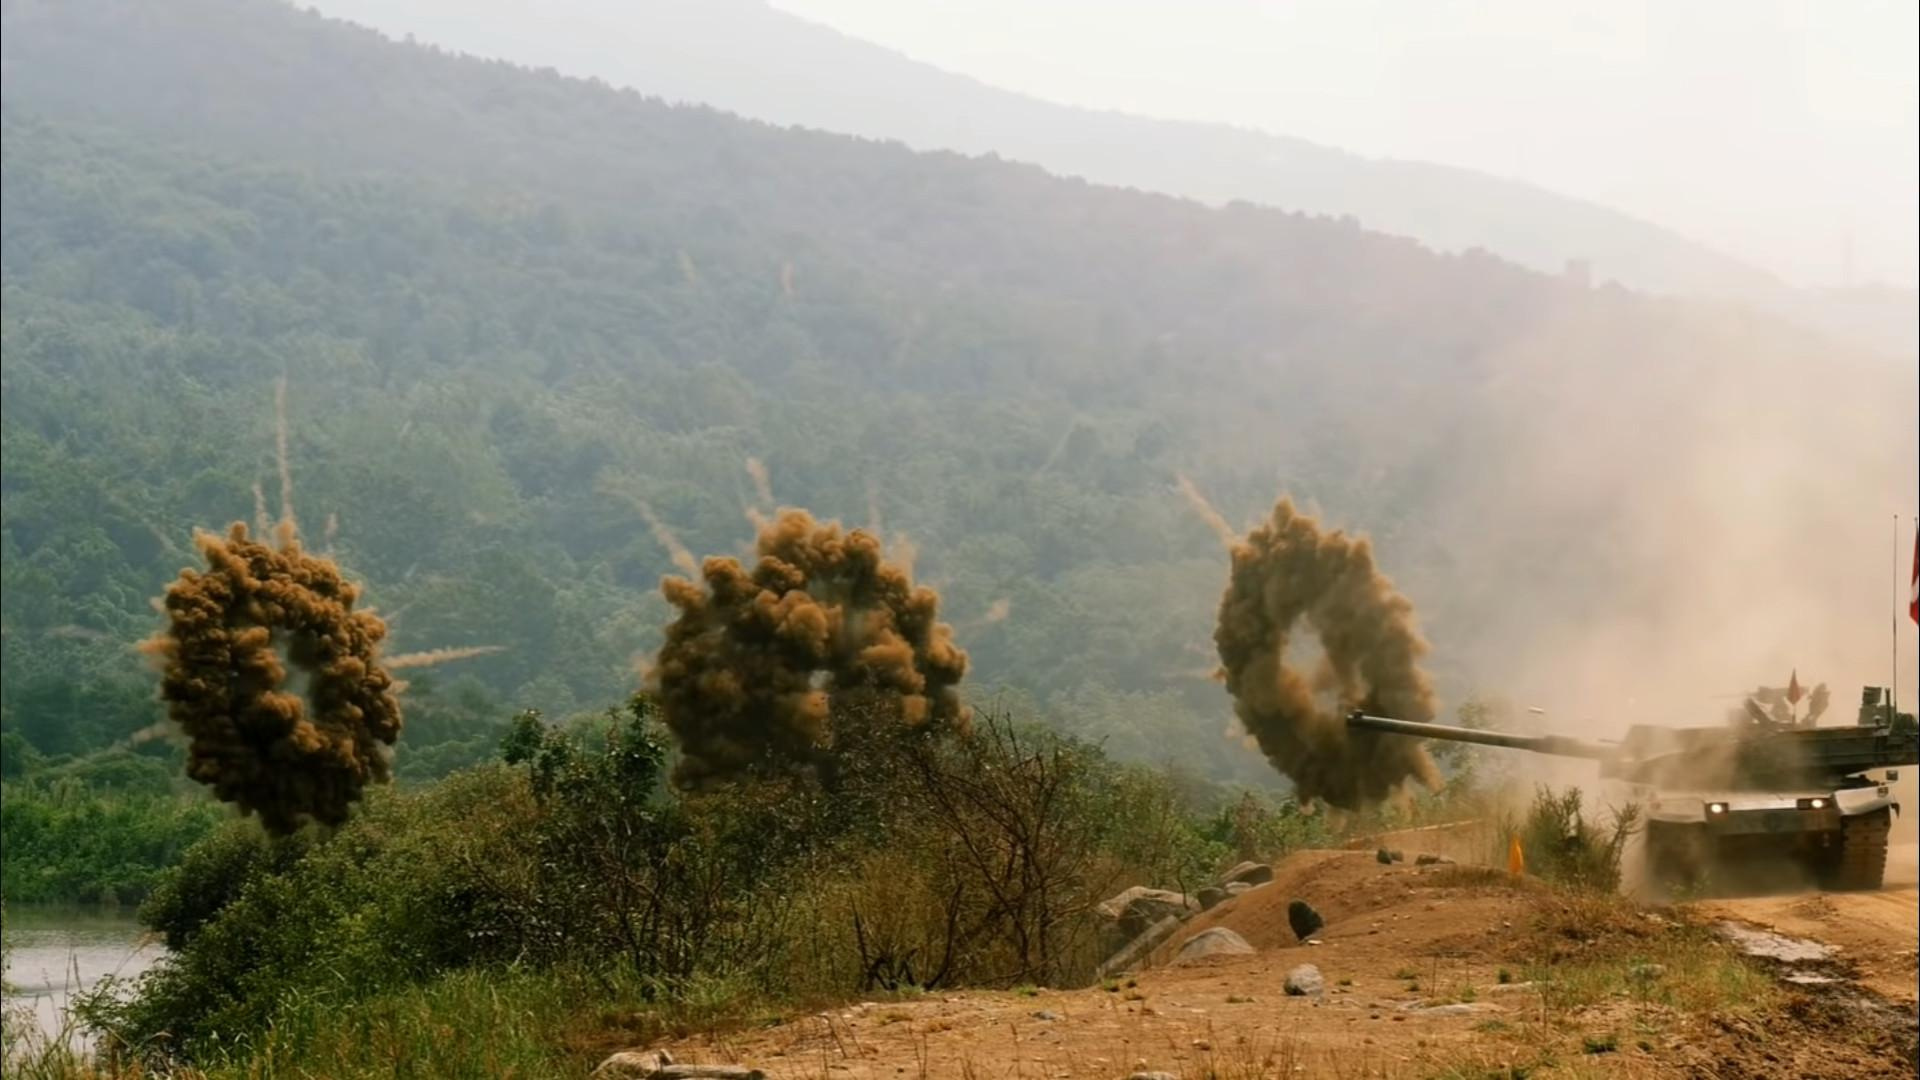tank: (1348, 703, 1919, 887)
